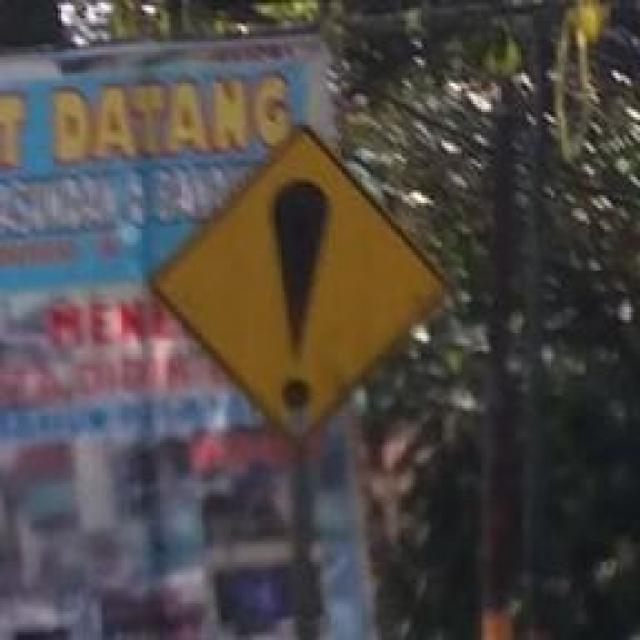traffic sign: (147, 125, 447, 448)
